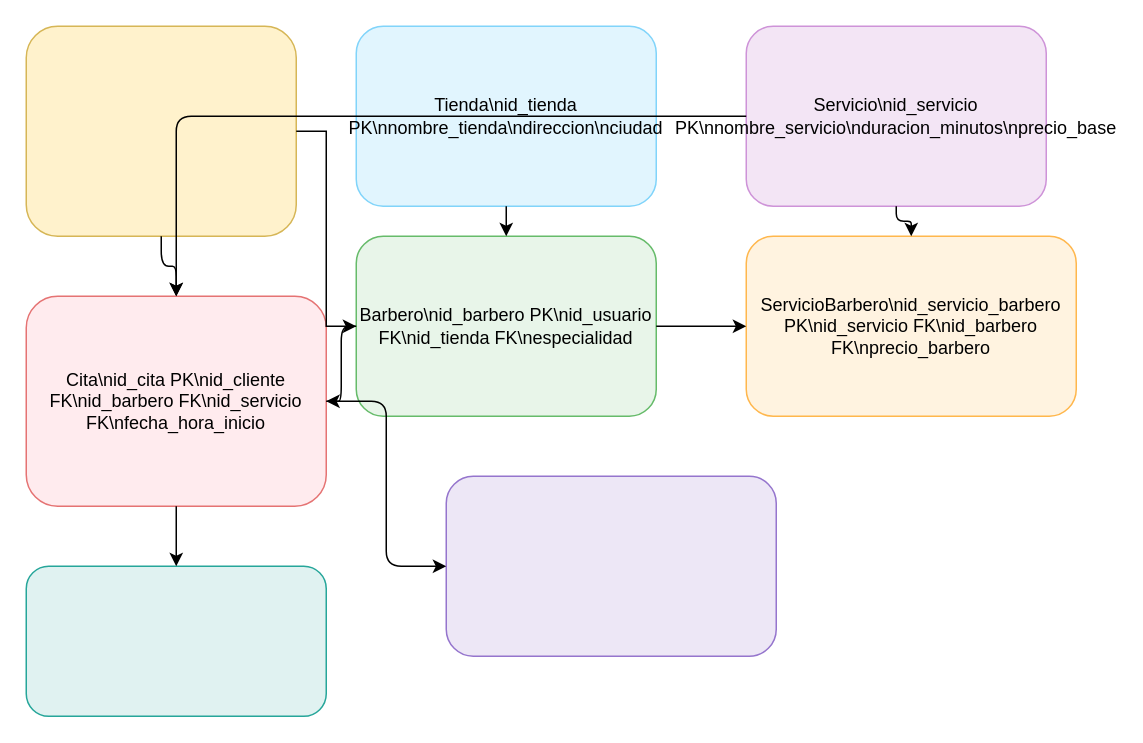
Image size: 1143x743. Some labels were removed from this diagram. The shapes that lost their labels are listed below. From the top down, each one's box as (x1, y1, x2, y2) in pixels, then its label:
(25, 25, 296, 236): Usuario\nid_usuario PK\nemail\nnombre\napellido\nrol
(445, 475, 776, 656): Reseña\nid_resena PK\nid_cita FK\nid_cliente FK\npuntuacion
(25, 565, 326, 716): Pago\nid_pago PK\nid_cita FK\nmonto_pagado\nestado_pago
